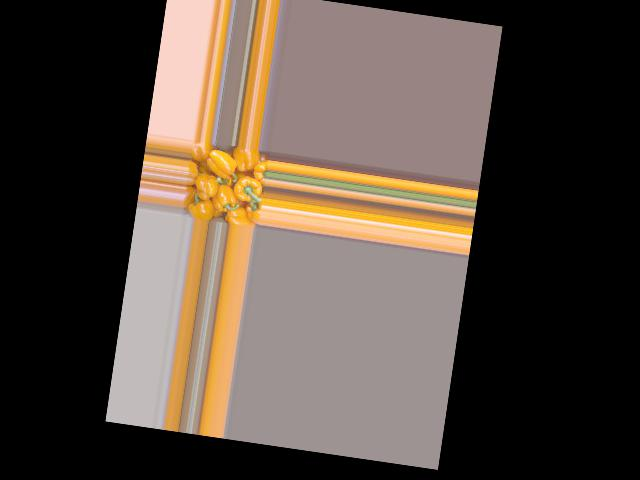bell_pepper: (181, 179, 203, 212)
